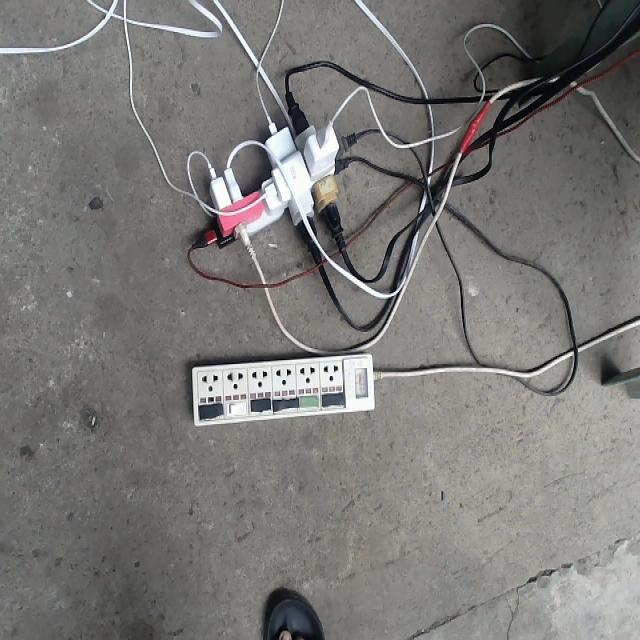-: (200, 106, 348, 246)
